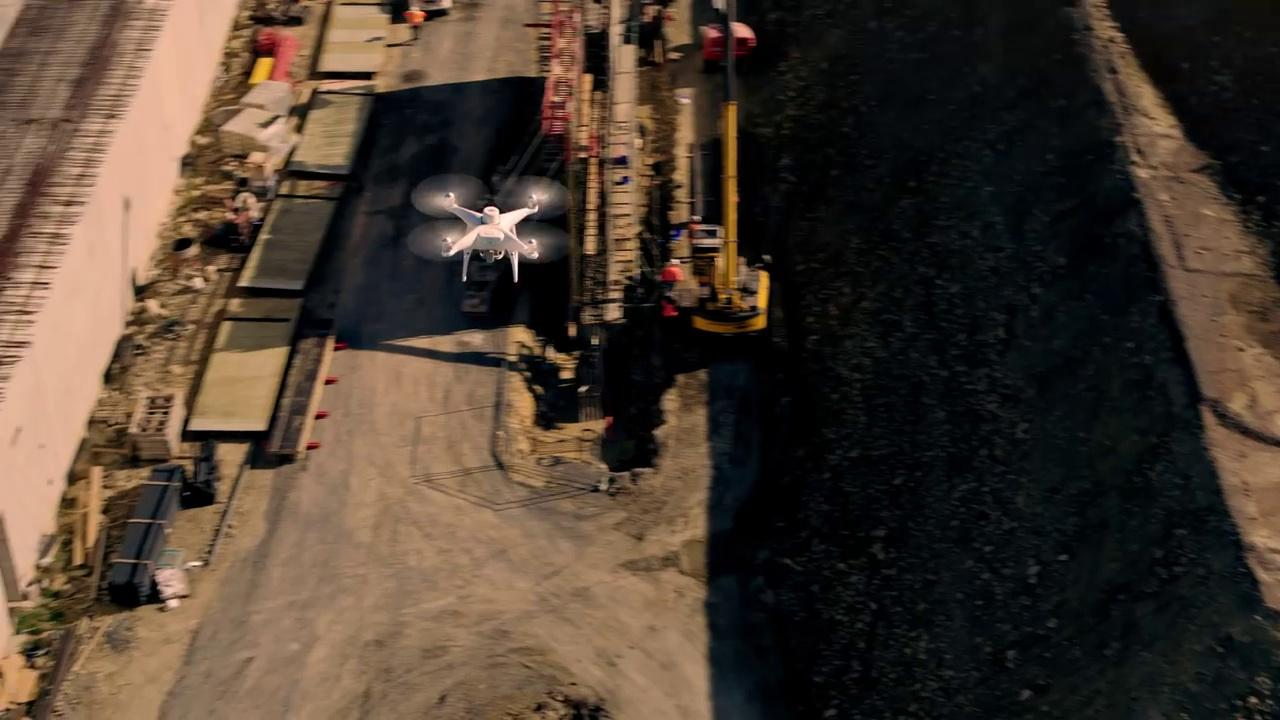drone: (402, 173, 571, 283)
